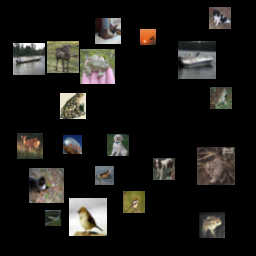airplane: (63, 135, 82, 154), (140, 29, 156, 45), (45, 210, 61, 226)
bird: (69, 198, 107, 236), (123, 191, 145, 213), (95, 166, 114, 185)
cat: (29, 168, 64, 203), (95, 18, 121, 44)
deer: (47, 41, 79, 73), (17, 133, 43, 159)
dog: (153, 158, 175, 180), (107, 134, 129, 156), (209, 7, 231, 29)
frog: (197, 147, 235, 185), (80, 49, 115, 84), (199, 212, 225, 238), (60, 93, 86, 119), (210, 87, 232, 109)
ship: (178, 41, 216, 79), (13, 43, 45, 75)
